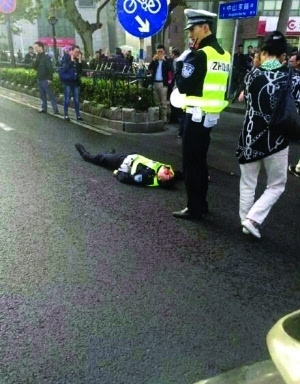10+: (16, 7, 297, 252)
down: (67, 133, 175, 197)
